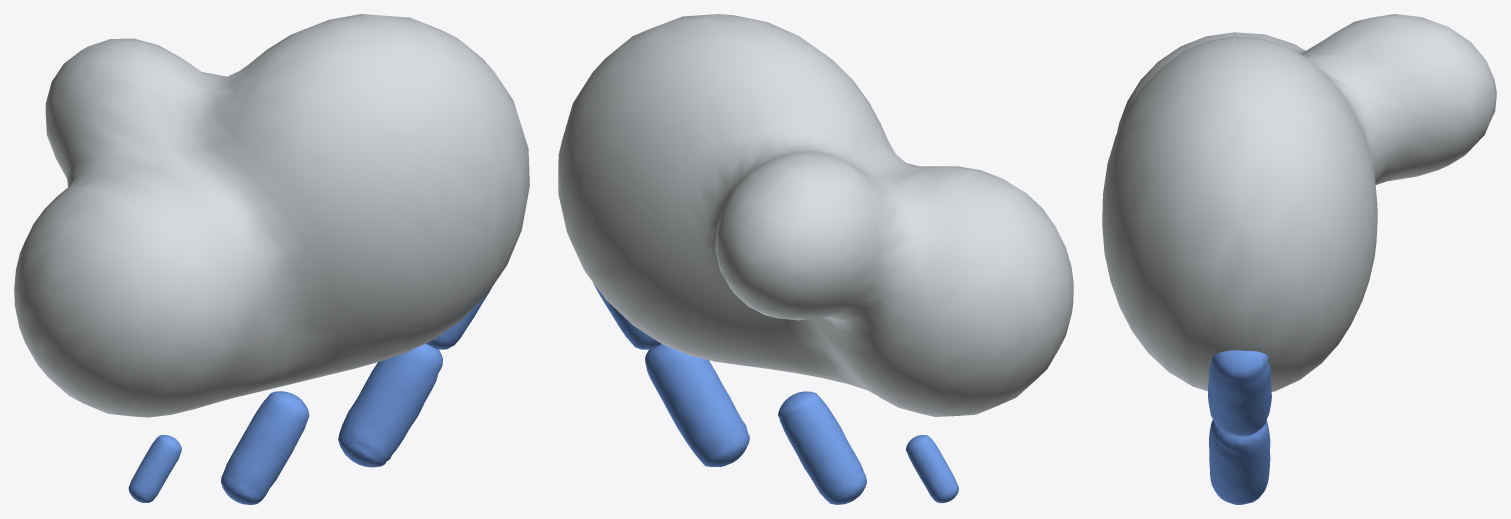
Rendered from weather-rain.glb.
3 renders of one model, left to right at view 1: azimuth 30°, elevation 25°; view 2: azimuth 150°, elevation 25°; view 3: azimuth 270°, elevation 25°, orthographic.
Visible parts, largest first — view 1: weather-cloud2.1, rain; view 2: weather-cloud2.1, rain; view 3: weather-cloud2.1, rain.
Part boxes in pixels (box(x1,y1,x2,y2)): weather-cloud2.1: box(14, 14, 529, 417); rain: box(128, 288, 491, 504); weather-cloud2.1: box(558, 14, 1073, 416); rain: box(593, 282, 958, 504); weather-cloud2.1: box(1102, 14, 1496, 391); rain: box(1208, 350, 1271, 504).
Size of the model in its own units: 2.97 by 2.64 by 2.09.
